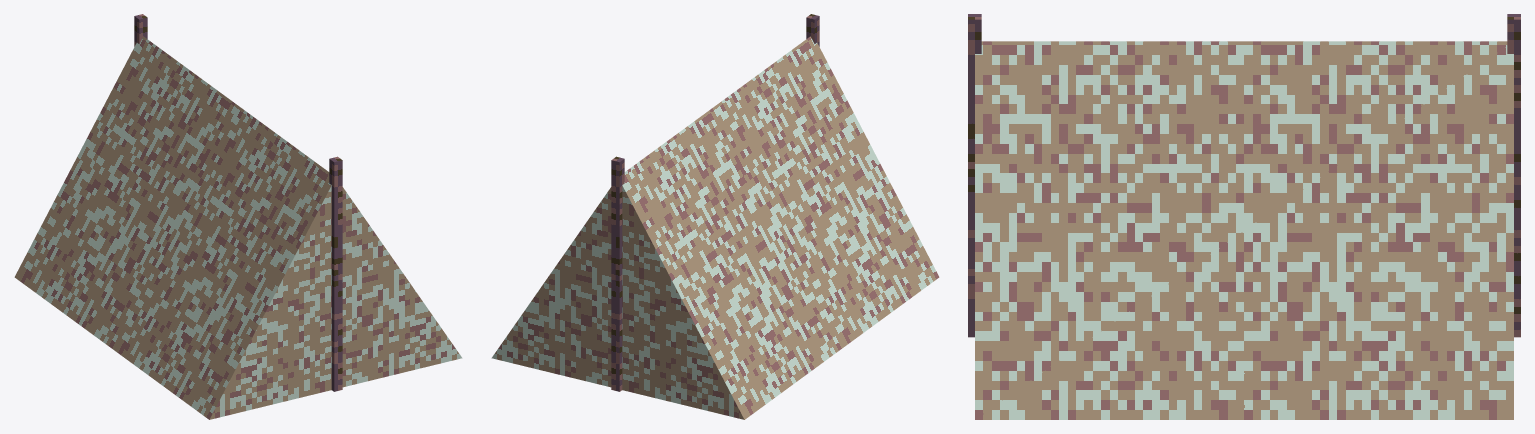
The model's file is a02_tenda.glb.
The picture shows the model from 3 angles, left to right: view 1: azimuth 30°, elevation 25°; view 2: azimuth 150°, elevation 25°; view 3: azimuth 270°, elevation 25°; orthographic projection. The views are drawn at different scales.
Visible parts, largest first — view 1: a02_tenda; view 2: a02_tenda; view 3: a02_tenda.
Boxes of the visible parts, x1,y1,x2,y2 form: a02_tenda: [14, 14, 462, 419]; a02_tenda: [491, 14, 939, 419]; a02_tenda: [968, 14, 1520, 419].
Bounding box in the file's own units: 3 × 2.6 × 4.1.
2 materials, 2 textured.
